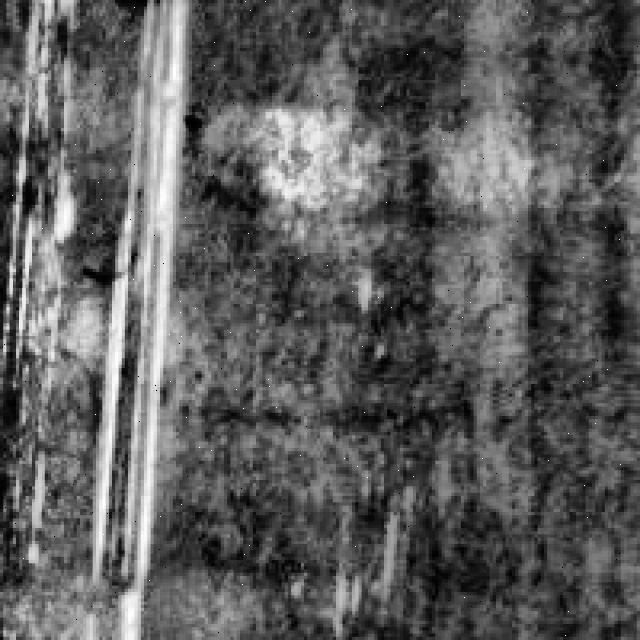Inclusion: (74, 0, 188, 634)
